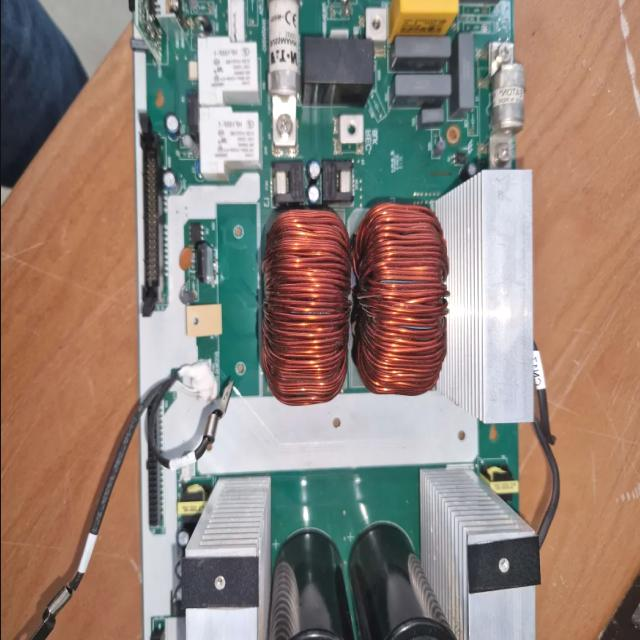A: (350, 202, 450, 398), (260, 208, 350, 404)
B: (488, 41, 524, 168), (267, 0, 297, 146)
